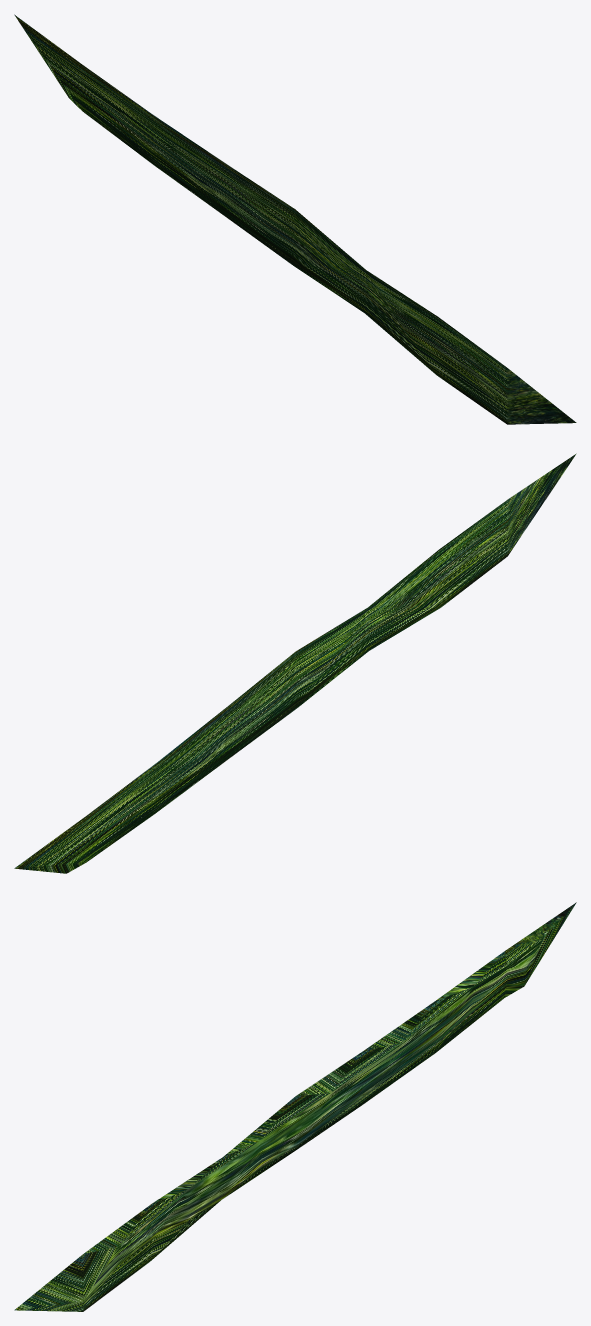
3 views of the same model, one above another, from view 1: azimuth 30°, elevation 25°; view 2: azimuth 150°, elevation 25°; view 3: azimuth 330°, elevation 25° (orthographic).
Visible parts, largest first — view 1: algae_cube_Cube; view 2: algae_cube_Cube; view 3: algae_cube_Cube.
Part boxes in pixels (x1,y1,x2,y2): algae_cube_Cube: (14, 14, 576, 424); algae_cube_Cube: (14, 453, 576, 873); algae_cube_Cube: (14, 902, 576, 1311).
Bounding box in the file's own units: 0.0151 × 0.1819 × 3.05.
